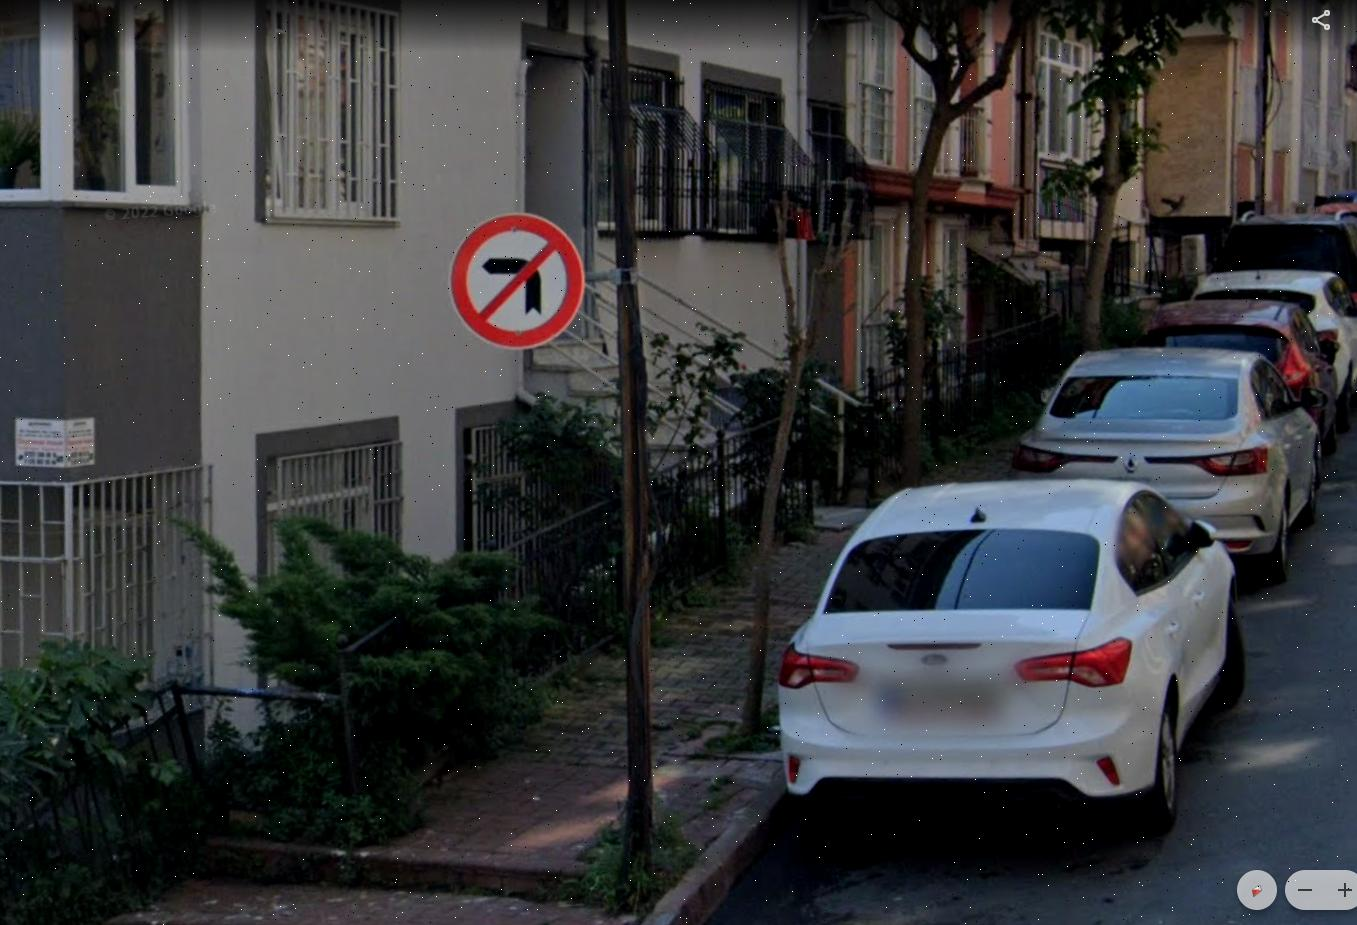leftturnsareforbidden: (454, 216, 582, 336)
